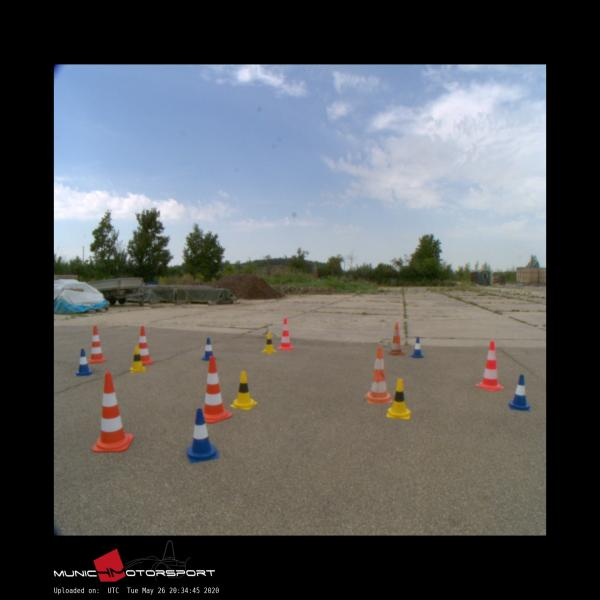blue_cone: (186, 408, 219, 463), (508, 374, 530, 410), (75, 348, 91, 375), (201, 337, 214, 360), (411, 337, 423, 357)
large_orange_cone: (92, 372, 132, 451), (200, 356, 231, 422), (365, 346, 391, 402), (475, 341, 503, 390), (137, 326, 153, 364), (88, 326, 104, 363), (388, 322, 404, 354), (277, 318, 293, 349)
yellow_cone: (386, 378, 411, 419), (230, 371, 256, 408), (130, 347, 146, 371), (261, 333, 277, 352)
